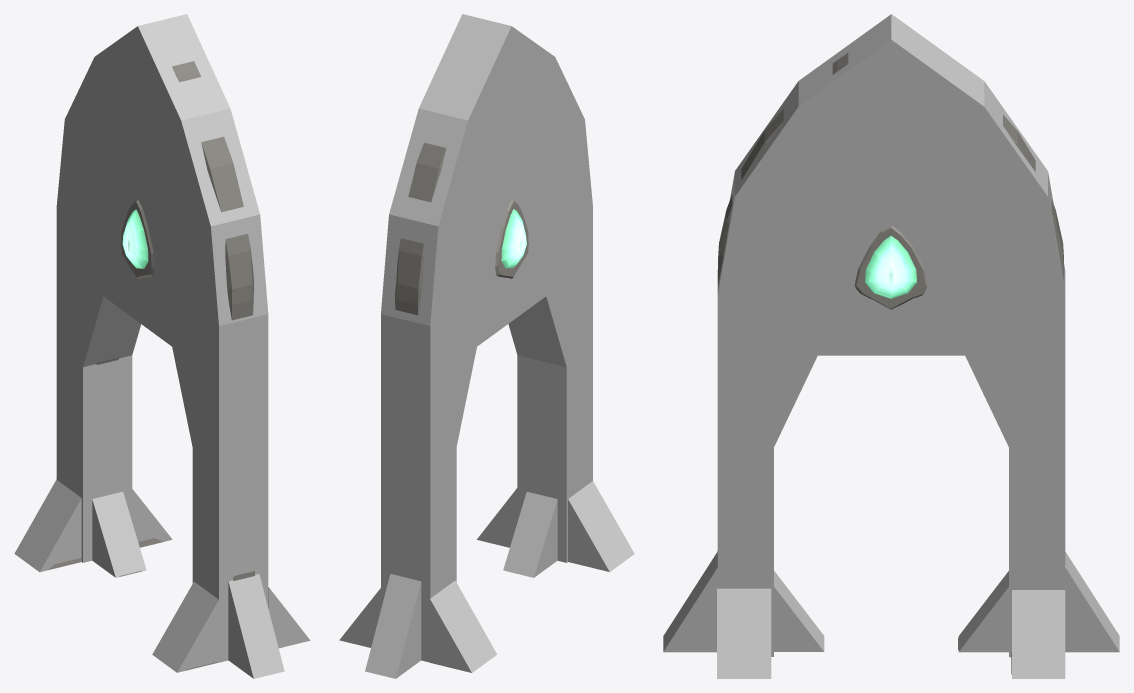
File: SM_Bld_Arch_01.fbx
The picture shows the model from 3 angles, left to right: view 1: azimuth 30°, elevation 25°; view 2: azimuth 150°, elevation 25°; view 3: azimuth 270°, elevation 25°; orthographic projection. The views are drawn at different scales.
Visible parts, largest first — view 1: SM_Bld_Arch_01_ConvexHulls, SM_Bld_Arch_01; view 2: SM_Bld_Arch_01_ConvexHulls, SM_Bld_Arch_01; view 3: SM_Bld_Arch_01_ConvexHulls, SM_Bld_Arch_01.
Part boxes in pixels (left/top/right/bottom): SM_Bld_Arch_01_ConvexHulls: left=14, top=14, right=310, bottom=678; SM_Bld_Arch_01: left=47, top=61, right=254, bottom=670; SM_Bld_Arch_01_ConvexHulls: left=339, top=14, right=634, bottom=678; SM_Bld_Arch_01: left=395, top=142, right=528, bottom=315; SM_Bld_Arch_01_ConvexHulls: left=663, top=14, right=1119, bottom=678; SM_Bld_Arch_01: left=717, top=53, right=1063, bottom=674.
Bounding box in the file's own units: 227 × 631 × 942.
Materials: 2 (1 with a texture image).
